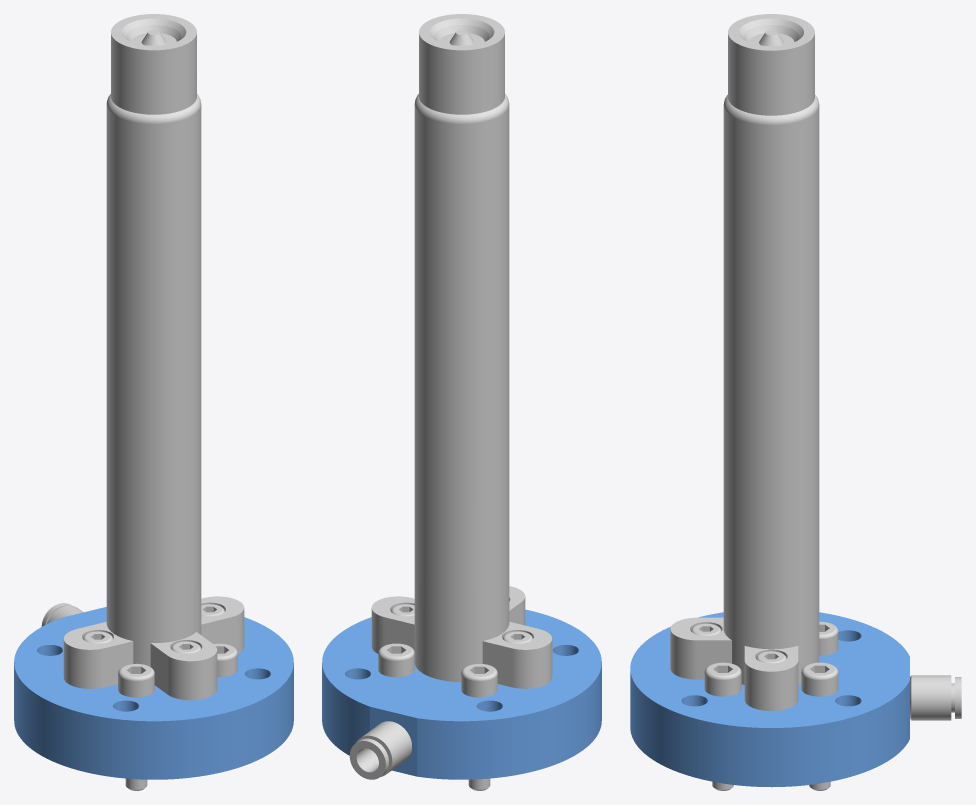
Rendered from EE_SMC_XT661_2A_ABB_IRB_120.fbx.
3 renders of one model, left to right at view 1: azimuth 30°, elevation 25°; view 2: azimuth 150°, elevation 25°; view 3: azimuth 270°, elevation 25°, orthographic.
Visible parts, largest first — view 1: XT661_2A_R_IRB_120_001; view 2: XT661_2A_R_IRB_120_001; view 3: XT661_2A_R_IRB_120_001.
Part boxes in pixels (left/top/right/bottom): XT661_2A_R_IRB_120_001: left=14, top=14, right=293, bottom=790; XT661_2A_R_IRB_120_001: left=322, top=14, right=601, bottom=790; XT661_2A_R_IRB_120_001: left=630, top=14, right=961, bottom=790.
Size of the model in its own units: 6.5 by 18.65 by 7.62.
